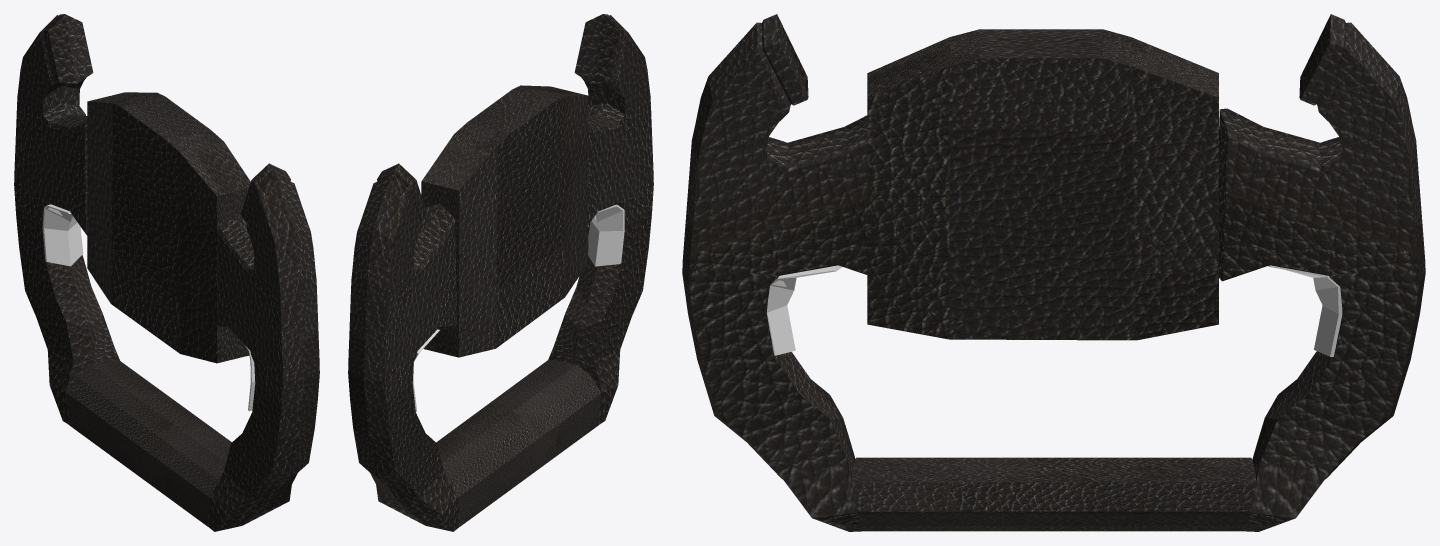
The model's file is stuur.fbx.
3 views of the same model, side by side, from view 1: azimuth 30°, elevation 25°; view 2: azimuth 150°, elevation 25°; view 3: azimuth 270°, elevation 25° (orthographic). The views are drawn at different scales.
Visible parts, largest first — view 1: Cube.001, Cube.002, Cube, Cube.003; view 2: Cube.001, Cube.002, Cube, Cube.004; view 3: Cube.001, Cube.002, Cube, Cube.004, Cube.003.
Part boxes in pixels (left/top/right/bottom): Cube.001: left=14, top=14, right=319, bottom=531; Cube.002: left=87, top=92, right=250, bottom=363; Cube: left=66, top=360, right=231, bottom=526; Cube.003: left=42, top=204, right=83, bottom=266; Cube.001: left=348, top=14, right=653, bottom=531; Cube.002: left=421, top=85, right=588, bottom=357; Cube: left=436, top=359, right=601, bottom=526; Cube.004: left=588, top=204, right=624, bottom=266; Cube.001: left=682, top=14, right=1425, bottom=531; Cube.002: left=867, top=29, right=1218, bottom=340; Cube: left=851, top=457, right=1256, bottom=531; Cube.004: left=766, top=265, right=842, bottom=355; Cube.003: left=1268, top=265, right=1342, bottom=356.
Bounding box in the file's own units: 53.19 × 311 × 404.
Materials: 5 (3 with a texture image).
